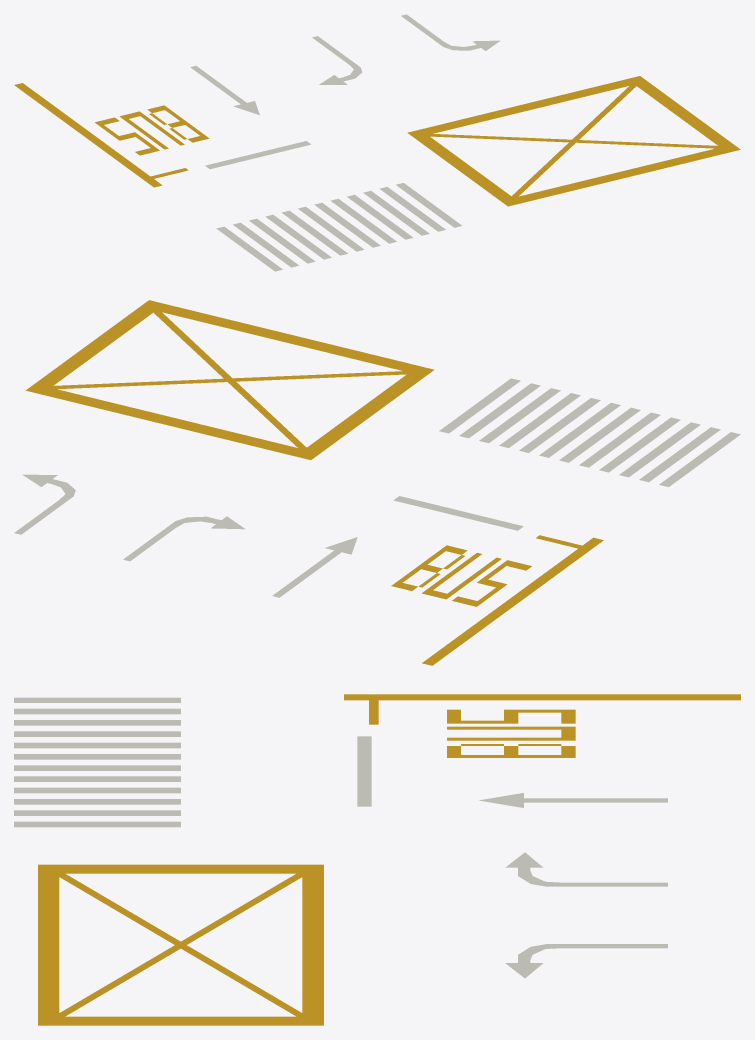
File: sg-road-markings.glb
The picture shows the model from 3 angles, top to bottom: view 1: azimuth 30°, elevation 25°; view 2: azimuth 150°, elevation 25°; view 3: azimuth 270°, elevation 25°; orthographic projection. The views are drawn at different scales.
Visible parts, largest first — view 1: yellow_box, zebra, bus_lane, arrow_left, arrow_right, stop_line, arrow_straight; view 2: yellow_box, zebra, bus_lane, arrow_right, arrow_left, stop_line, arrow_straight; view 3: yellow_box, zebra, bus_lane, arrow_right, arrow_left, arrow_straight, stop_line.
Boxes of the visible parts, bbox=[...] form: yellow_box: bbox=[407, 76, 740, 206]; zebra: bbox=[216, 183, 462, 271]; bus_lane: bbox=[14, 83, 209, 187]; arrow_left: bbox=[401, 14, 500, 50]; arrow_right: bbox=[312, 36, 362, 84]; stop_line: bbox=[205, 141, 310, 169]; arrow_straight: bbox=[190, 66, 259, 115]; yellow_box: bbox=[26, 300, 434, 459]; zebra: bbox=[439, 378, 740, 486]; bus_lane: bbox=[391, 535, 603, 665]; arrow_right: bbox=[123, 516, 245, 561]; arrow_left: bbox=[14, 474, 75, 534]; stop_line: bbox=[393, 496, 523, 530]; arrow_straight: bbox=[272, 537, 357, 597]; yellow_box: bbox=[38, 864, 323, 1025]; zebra: bbox=[14, 697, 180, 827]; bus_lane: bbox=[344, 694, 740, 757]; arrow_right: bbox=[505, 852, 667, 886]; arrow_left: bbox=[505, 944, 667, 978]; arrow_straight: bbox=[479, 793, 667, 807]; stop_line: bbox=[357, 736, 371, 806].
Size of the model in its own units: 16.45 by 0 by 15.25.
